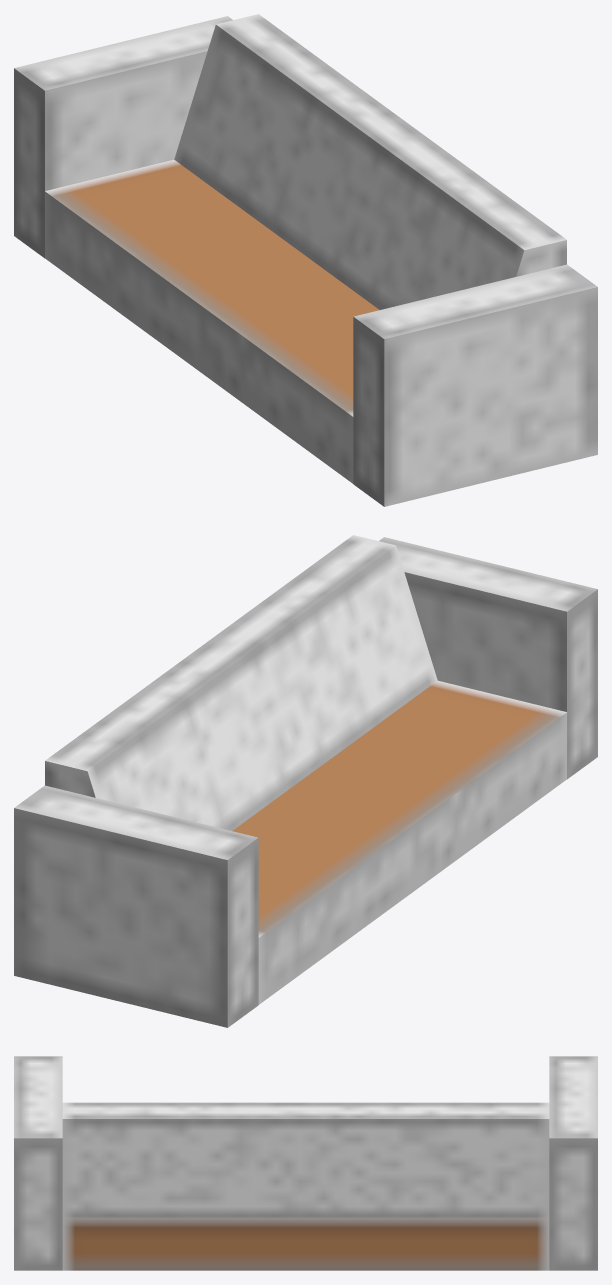
File: couch 1.fbx
3 renders of one model, top to bottom at view 1: azimuth 30°, elevation 25°; view 2: azimuth 150°, elevation 25°; view 3: azimuth 270°, elevation 25°, orthographic. The views are drawn at different scales.
Visible parts, largest first — view 1: Couch2; view 2: Couch2; view 3: Couch2.
Boxes of the visible parts, x1,y1,x2,y2 form: Couch2: (14, 14, 597, 506); Couch2: (14, 535, 597, 1027); Couch2: (14, 1056, 597, 1270).
Bounding box in the file's own units: 1 × 0.86 × 3.
